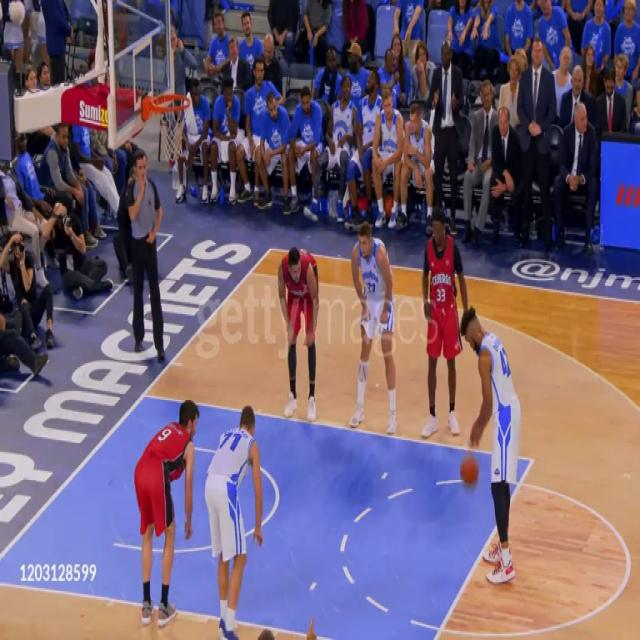ball: (460, 450, 479, 486)
